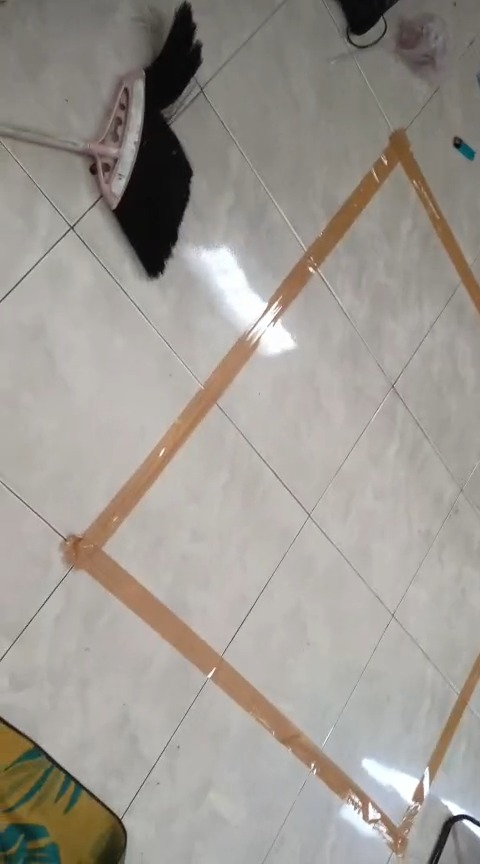floor marking: (64, 130, 479, 853)
